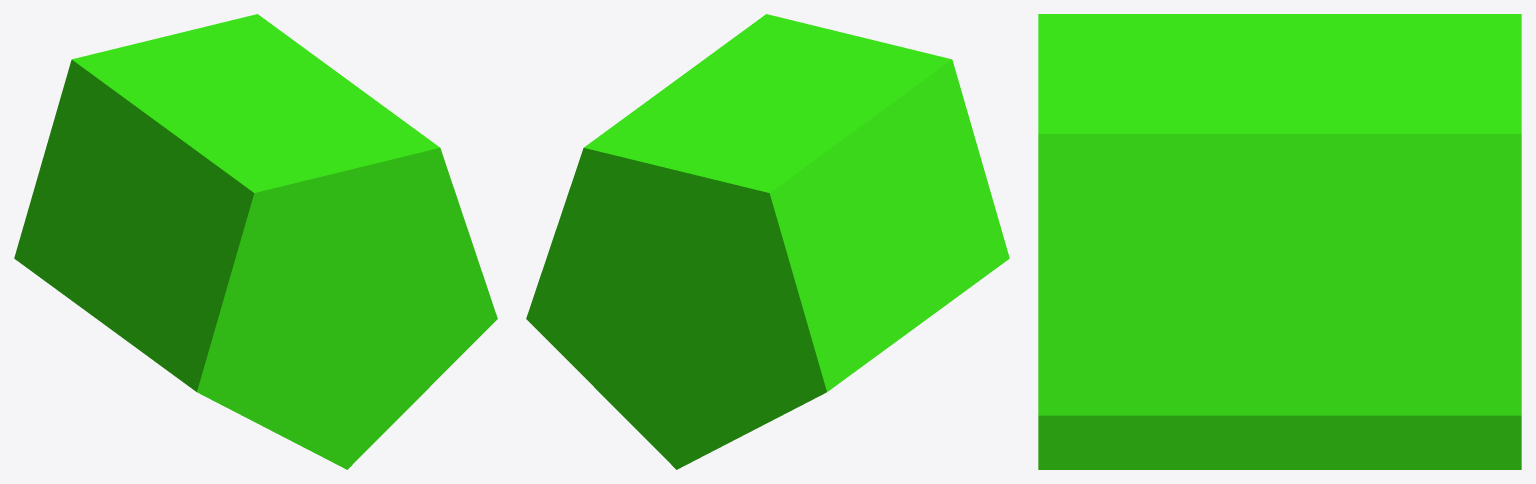
File: g_pri5.glb
3 views of the same model, side by side, from view 1: azimuth 30°, elevation 25°; view 2: azimuth 150°, elevation 25°; view 3: azimuth 270°, elevation 25° (orthographic). The views are drawn at different scales.
Parts seen in each view (by area): view 1: Object_2; view 2: Object_2; view 3: Object_2.
Boxes of the visible parts, x1,y1,x2,y2 form: Object_2: (14, 14, 497, 469); Object_2: (526, 14, 1009, 469); Object_2: (1038, 14, 1521, 469).
Size of the model in its own units: 19.02 by 18.09 by 20.
